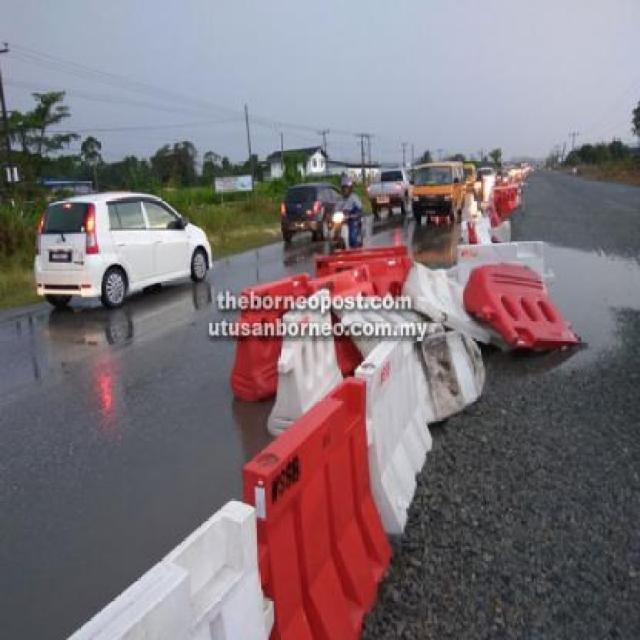fallen_object: (20, 359, 485, 640), (207, 192, 580, 410)
